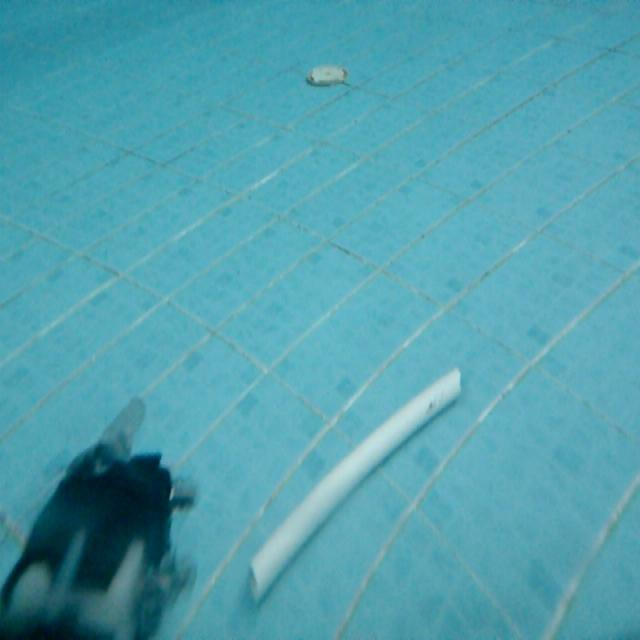Cube: (243, 360, 464, 605)
